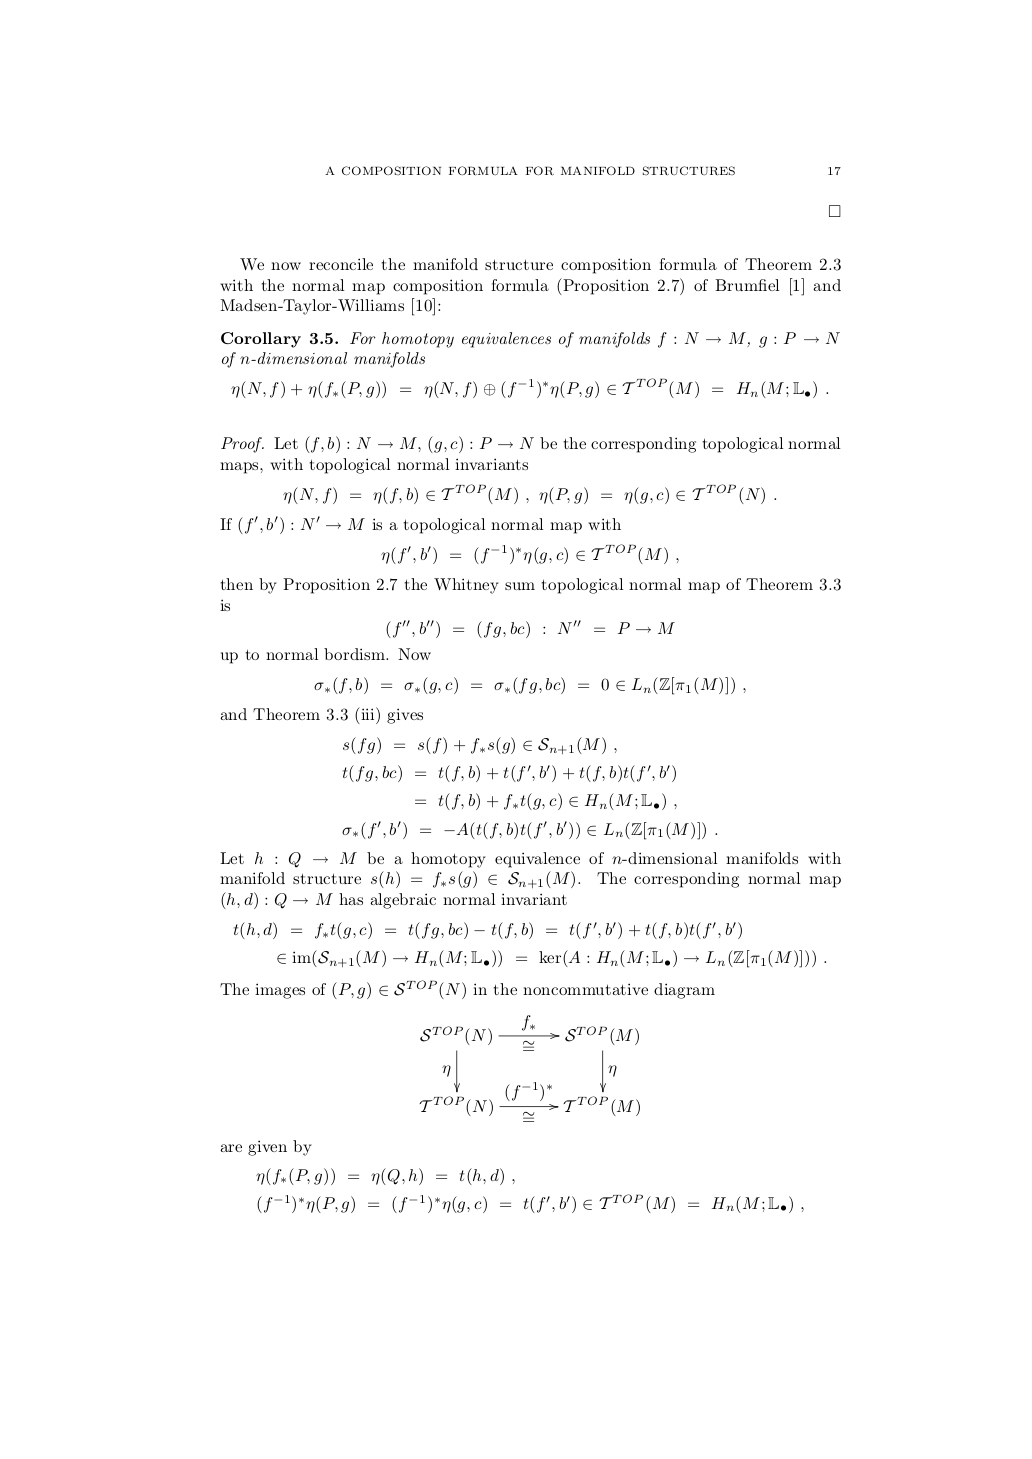formula: (419, 1015, 639, 1121), (231, 377, 828, 399), (257, 1192, 803, 1215), (277, 948, 826, 968), (283, 482, 776, 505), (233, 921, 740, 940), (314, 676, 745, 695), (342, 820, 717, 839), (381, 543, 678, 565), (342, 764, 675, 783), (386, 620, 673, 639), (415, 791, 676, 812), (343, 736, 617, 755), (256, 1167, 514, 1186)
